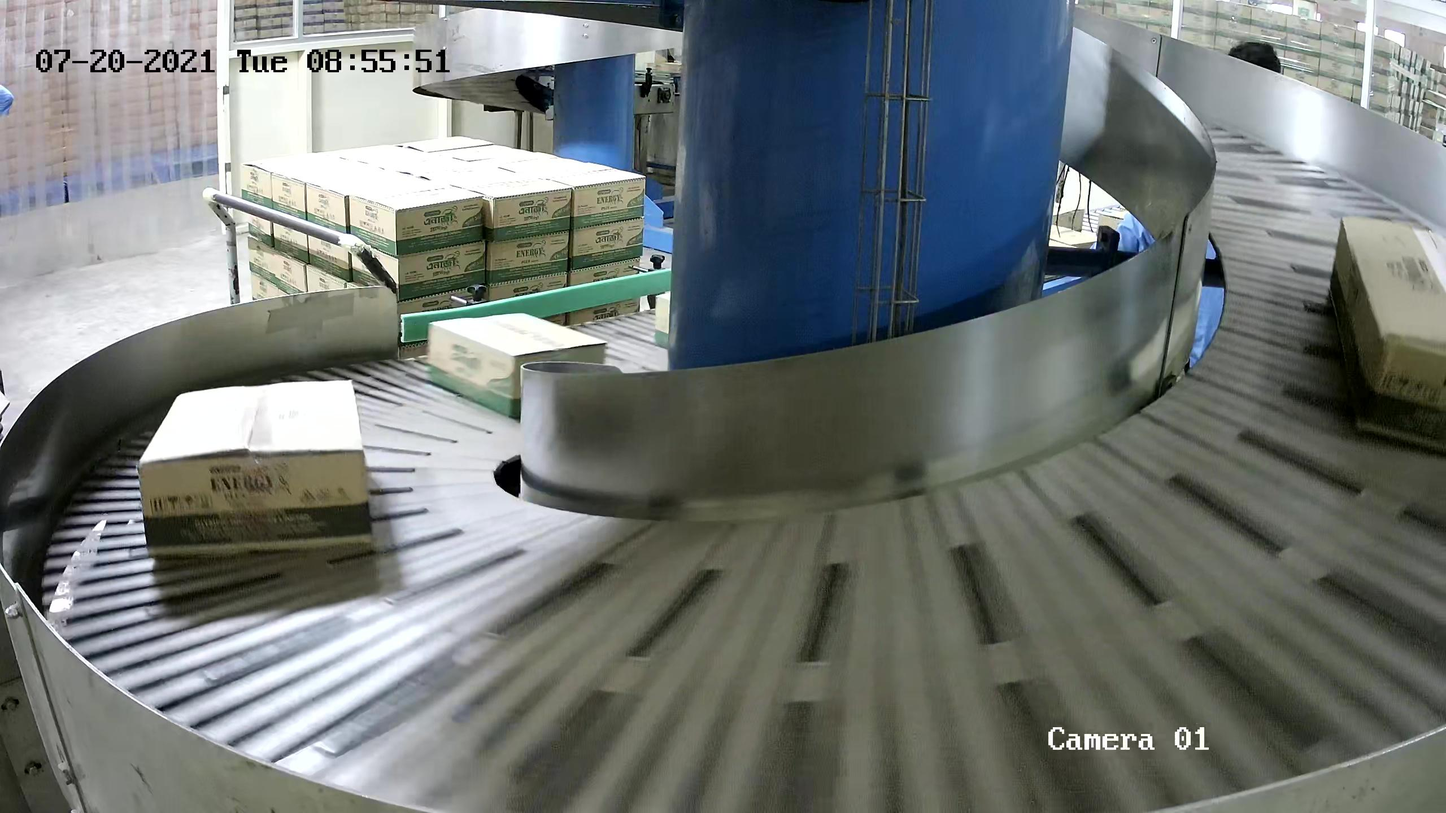Box: (136, 378, 375, 556), (1328, 215, 1446, 456), (425, 311, 608, 419)
